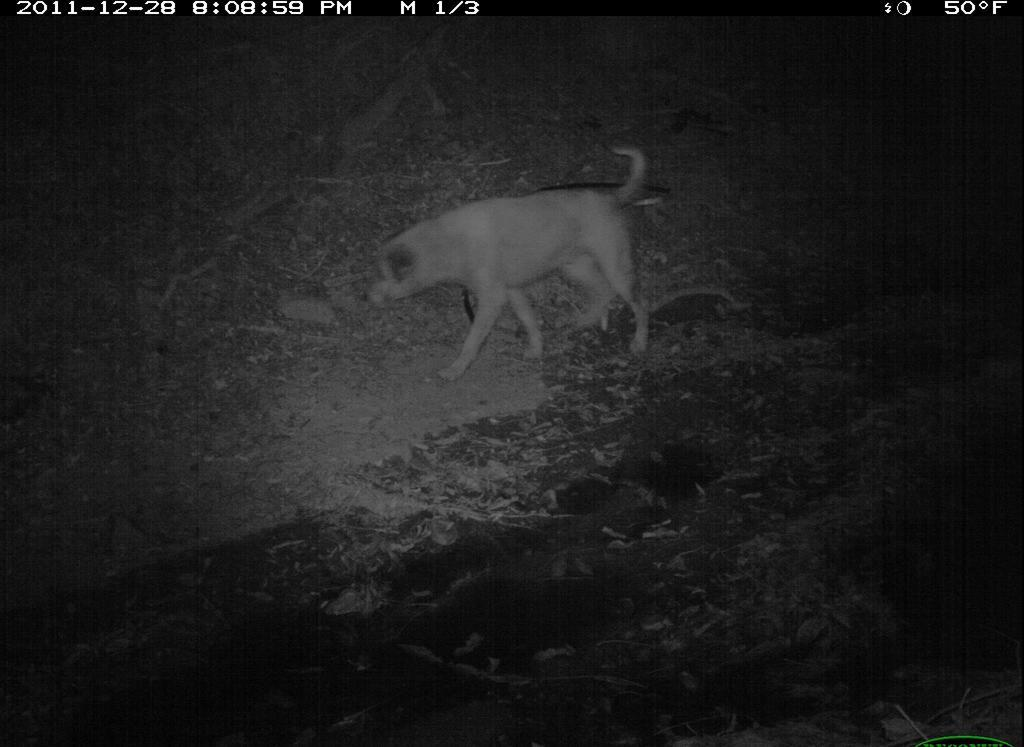dog: (363, 148, 656, 381)
